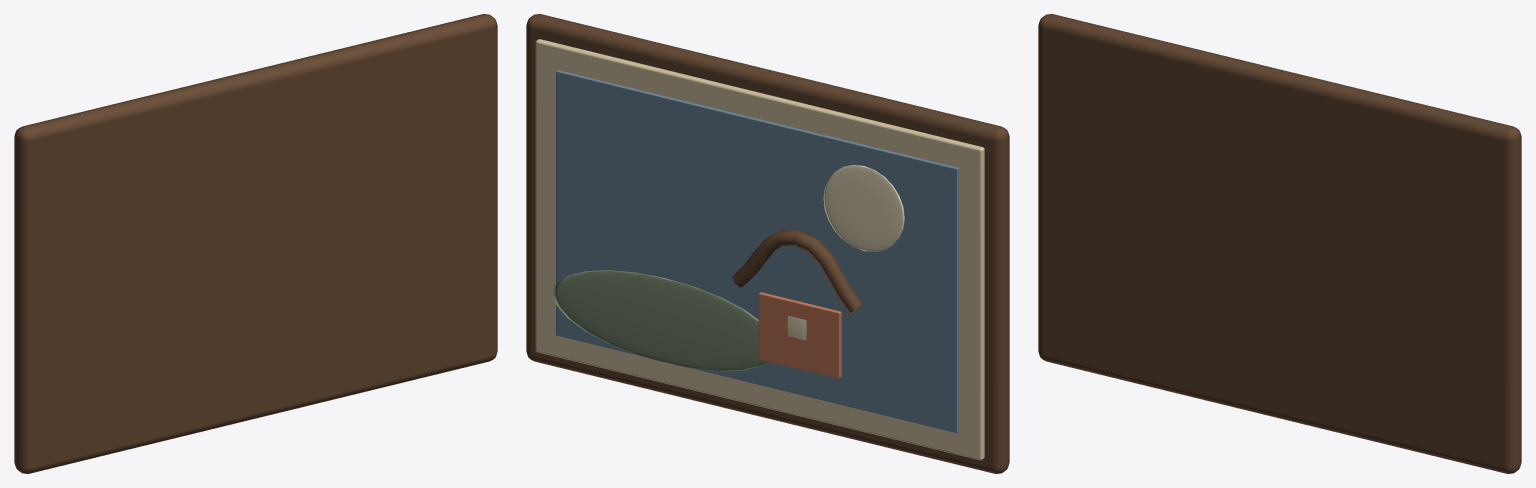
The model's file is wall_art.glb.
3 views of the same model, side by side, from view 1: azimuth 30°, elevation 25°; view 2: azimuth 150°, elevation 25°; view 3: azimuth 330°, elevation 25° (orthographic).
Visible parts, largest first — view 1: House07_wall_art; view 2: House07_wall_art; view 3: House07_wall_art.
Boxes of the visible parts, x1,y1,x2,y2 form: House07_wall_art: (14,14,497,473); House07_wall_art: (526,14,1009,473); House07_wall_art: (1038,14,1521,473).
Bounding box in the file's own units: 1.06 × 0.73 × 0.0985.
